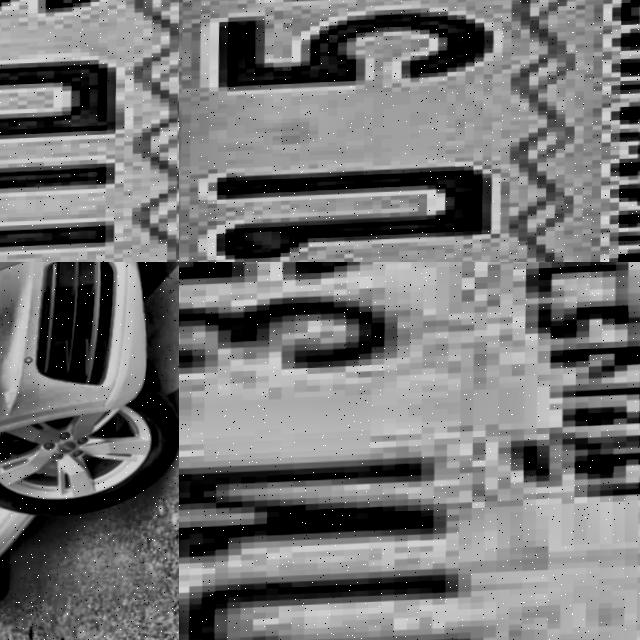license-plate: (179, 262, 640, 640), (179, 0, 640, 262), (0, 0, 179, 262)
